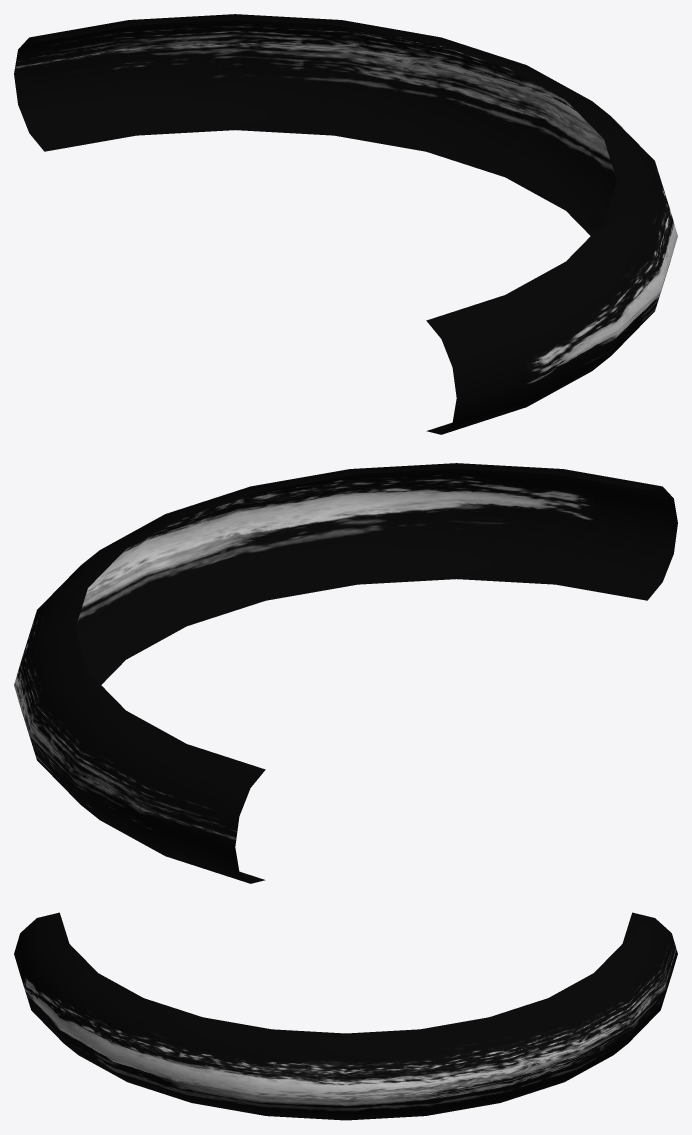
Rendered from tui1.FBX.
3 views of the same model, one above another, from view 1: azimuth 30°, elevation 25°; view 2: azimuth 150°, elevation 25°; view 3: azimuth 270°, elevation 25° (orthographic). The views are drawn at different scales.
Visible parts, largest first — view 1: Torus01; view 2: Torus01; view 3: Torus01.
Boxes of the visible parts, box(x1,y1,x2,y2) form: Torus01: box(14, 14, 677, 434); Torus01: box(14, 463, 677, 883); Torus01: box(14, 912, 677, 1120).
Size of the model in its own units: 47.42 by 13.07 by 94.84.
